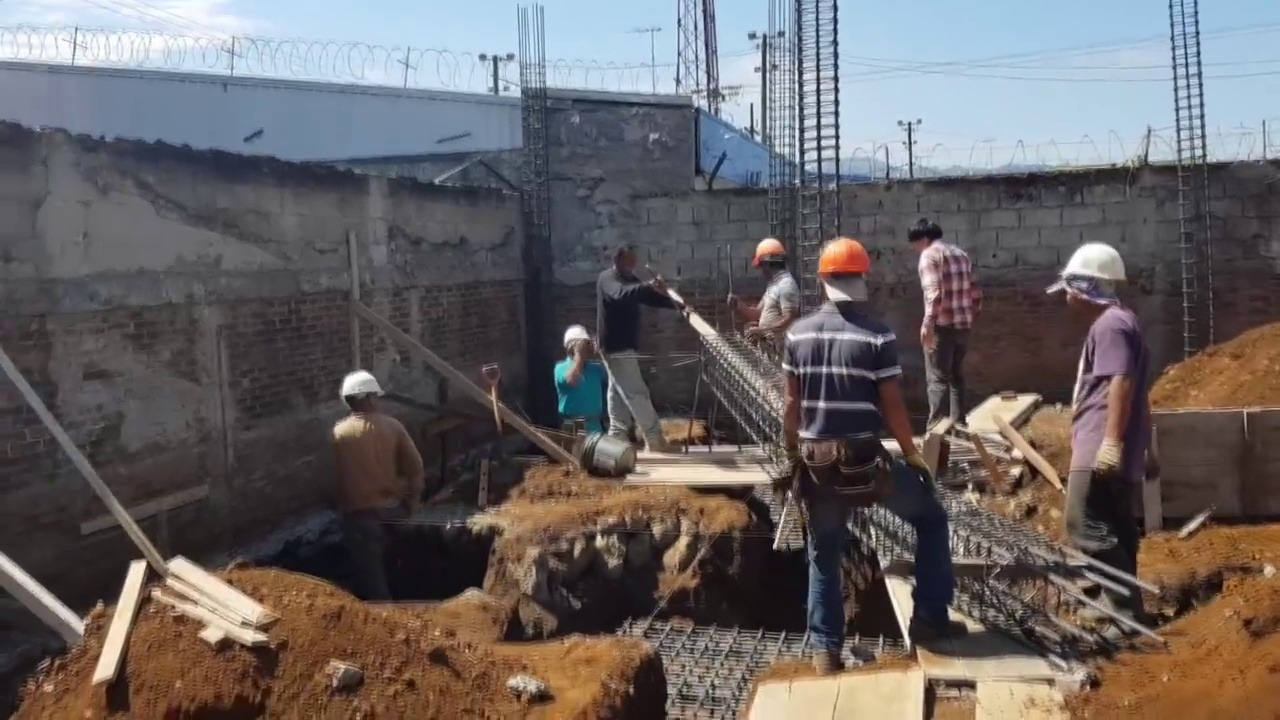helmet: (1056, 239, 1134, 292), (815, 238, 873, 280), (334, 372, 383, 403), (748, 239, 788, 267), (564, 326, 585, 345)
helmet-off: (917, 217, 946, 251), (616, 248, 641, 276)
helmet-on: (1056, 240, 1135, 320), (814, 240, 874, 312), (338, 372, 382, 423), (746, 239, 790, 281), (563, 324, 591, 362)
person: (784, 232, 952, 667), (1056, 240, 1155, 620), (318, 370, 424, 607), (599, 244, 684, 465), (909, 217, 985, 458), (742, 239, 807, 353), (549, 324, 613, 436)
